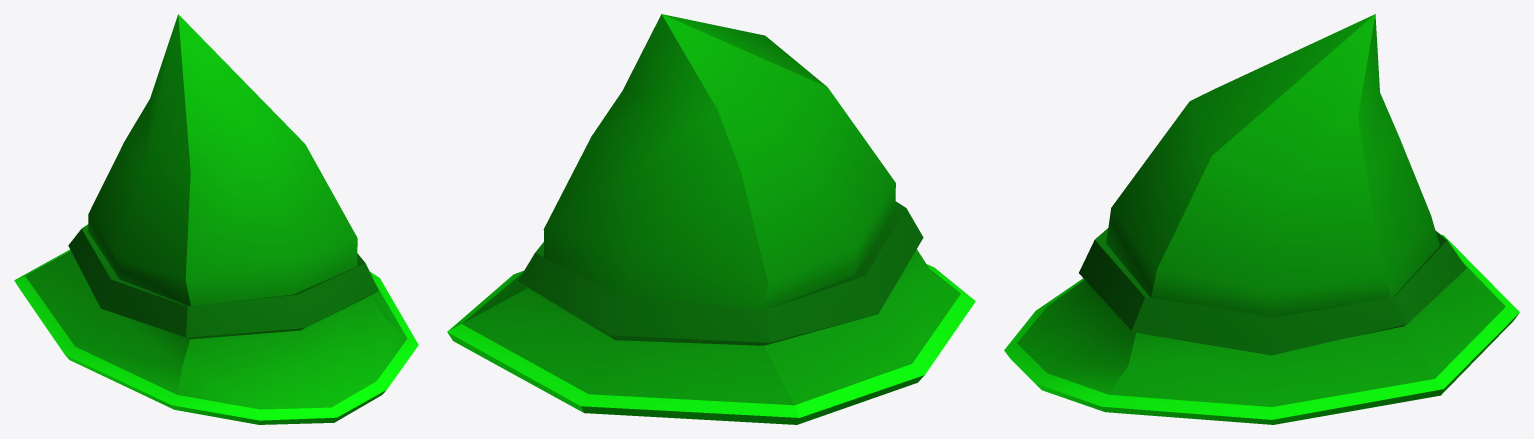
The model's file is PointedHat.fbx.
3 views of the same model, side by side, from view 1: azimuth 30°, elevation 25°; view 2: azimuth 150°, elevation 25°; view 3: azimuth 270°, elevation 25° (orthographic). The views are drawn at different scales.
Parts seen in each view (by area): view 1: PointedHat; view 2: PointedHat; view 3: PointedHat.
Boxes of the visible parts, bbox=[...] form: PointedHat: bbox=[14, 14, 418, 424]; PointedHat: bbox=[447, 14, 975, 424]; PointedHat: bbox=[1004, 14, 1519, 424].
Bounding box in the file's own units: 35.17 × 31.44 × 42.65.
